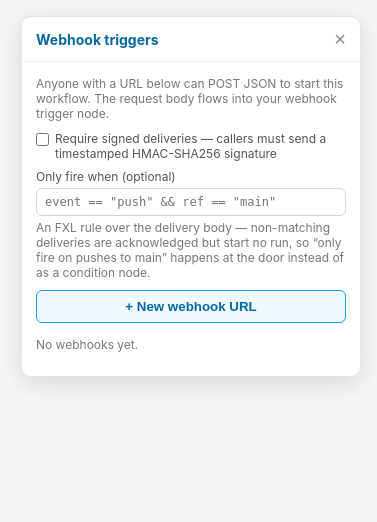
Scenario: WebhookPanel signing › creates an unsigned webhook by default and shows no secret
The width and height of the screenshot is (377, 522).
Click the button "+ New webhook URL" at {"x": 191, "y": 306}, box [36,290,346,323]
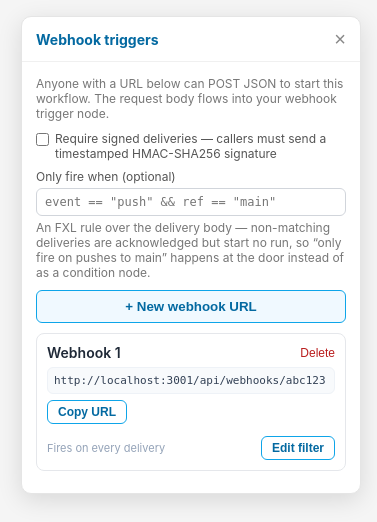
Check: the text "Webhook 1" is shown, box [47,344,121,361]
